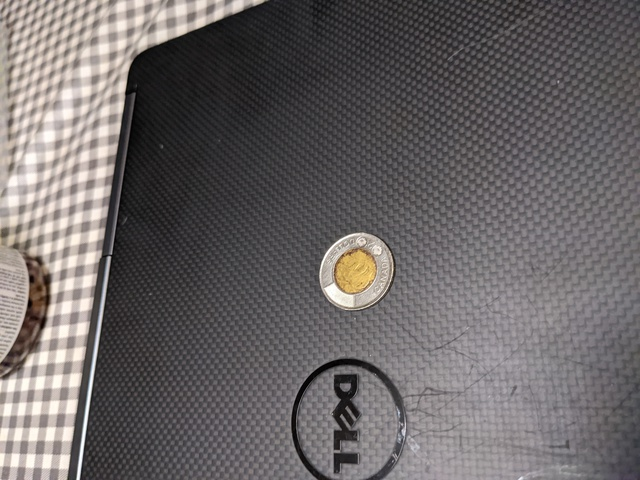twonie: (308, 224, 400, 314)
